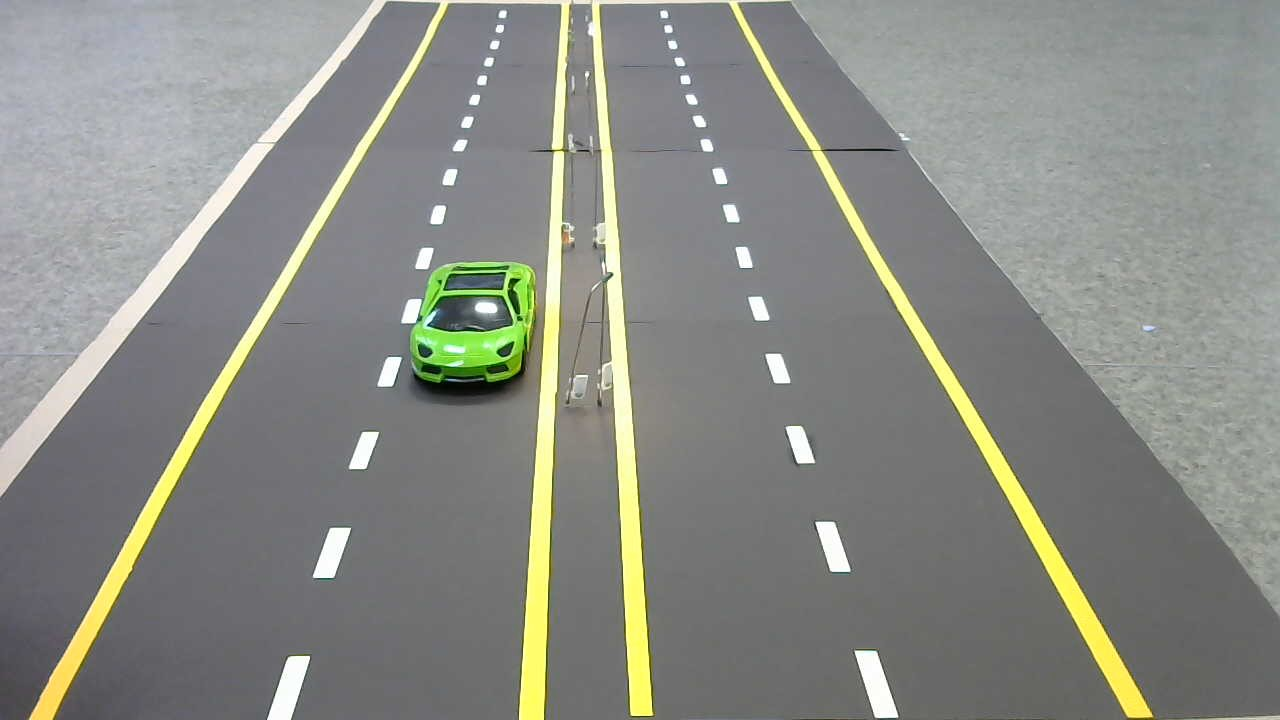front_car: (406, 257, 541, 400)
